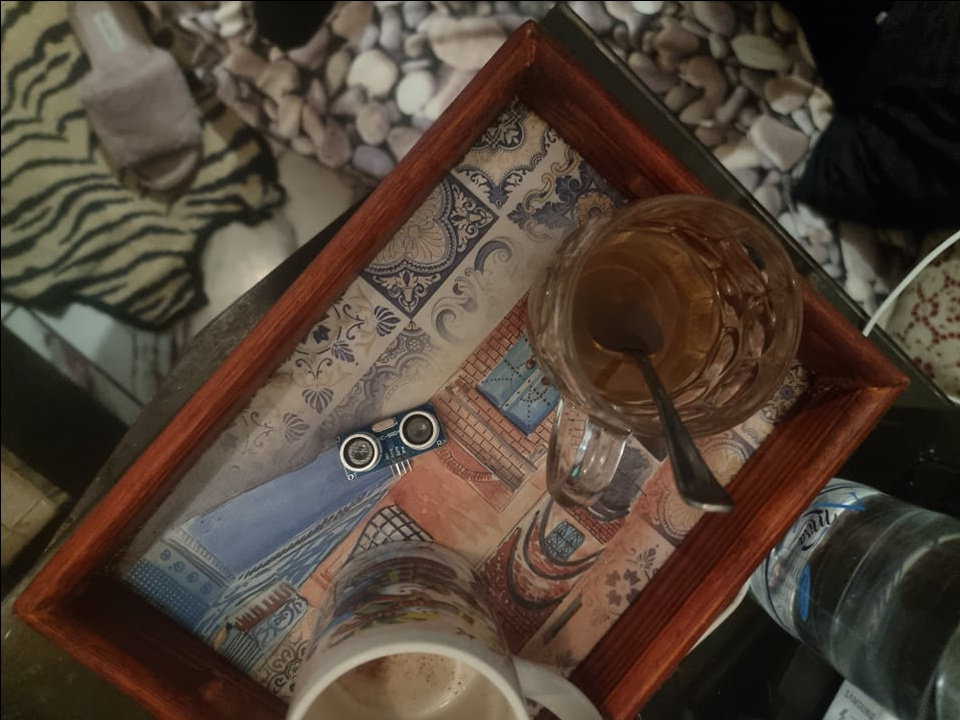SENSOR: (338, 406, 446, 481)
